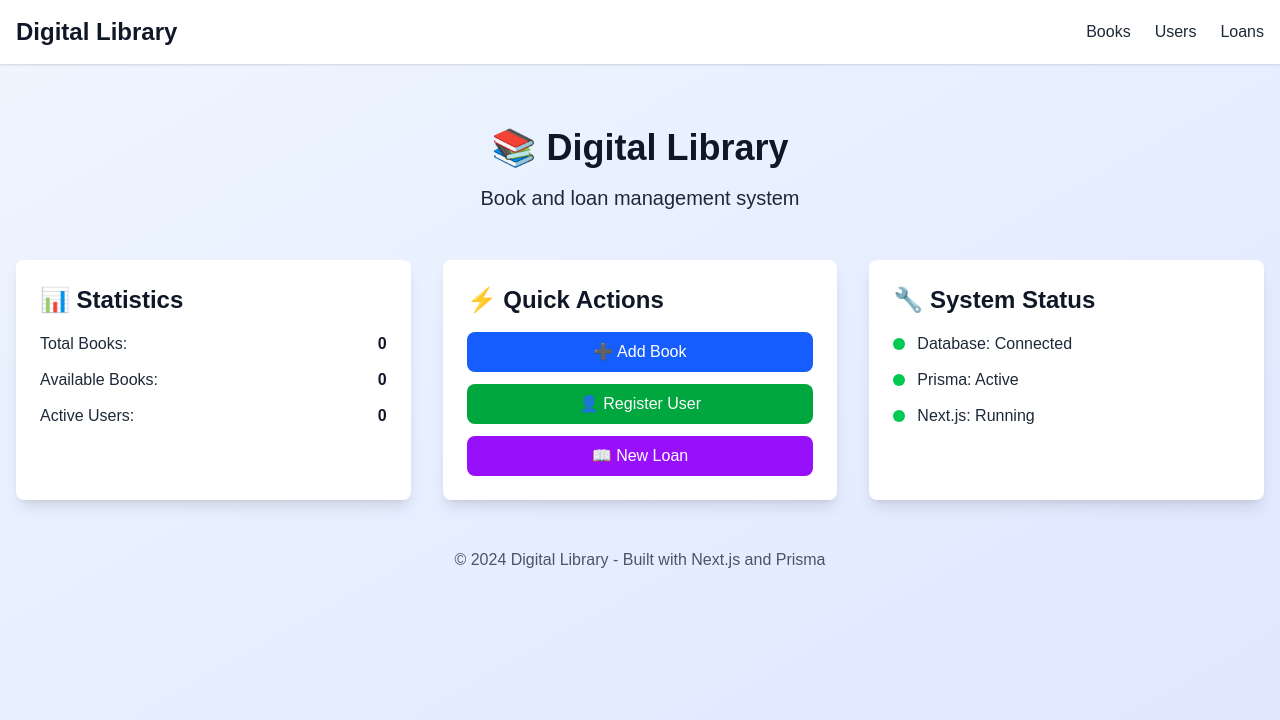
Test: Dashboard › should navigate to loans page
Click the link to "/loans".
click(1242, 32)  # box [1220,23,1264,40]
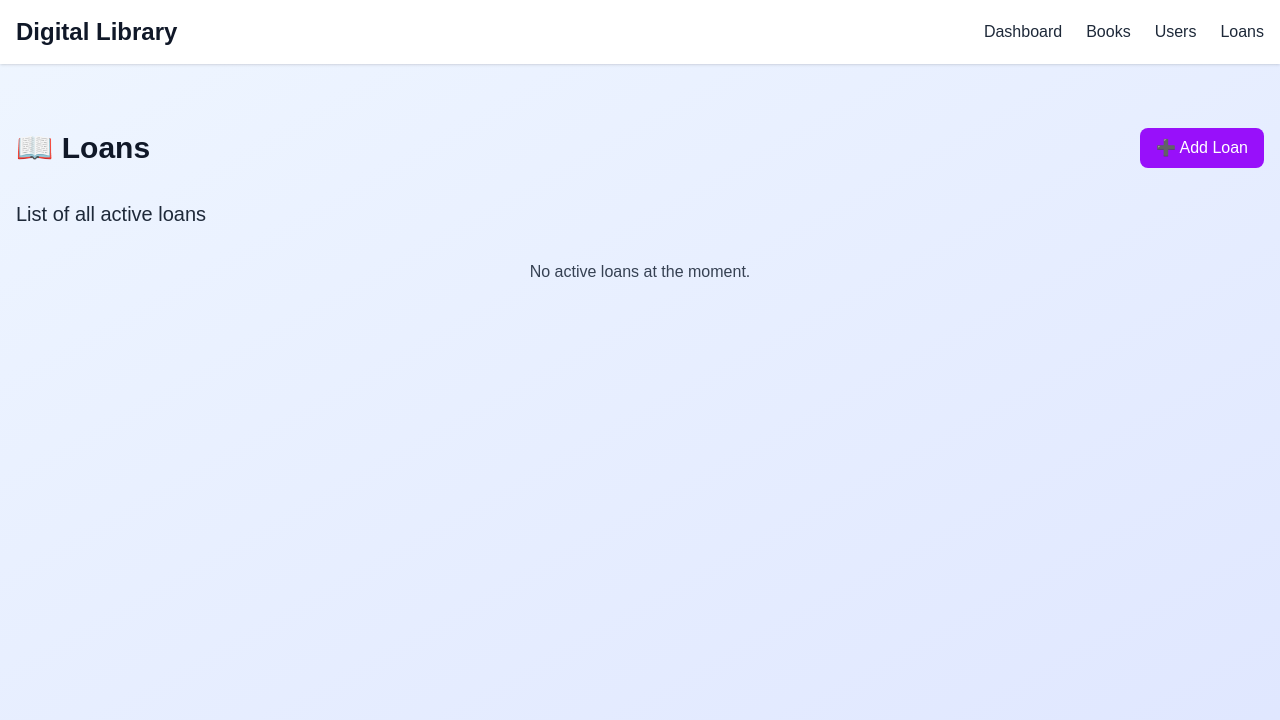
Result: the header shows "Loans" at [16,131,150,164]
